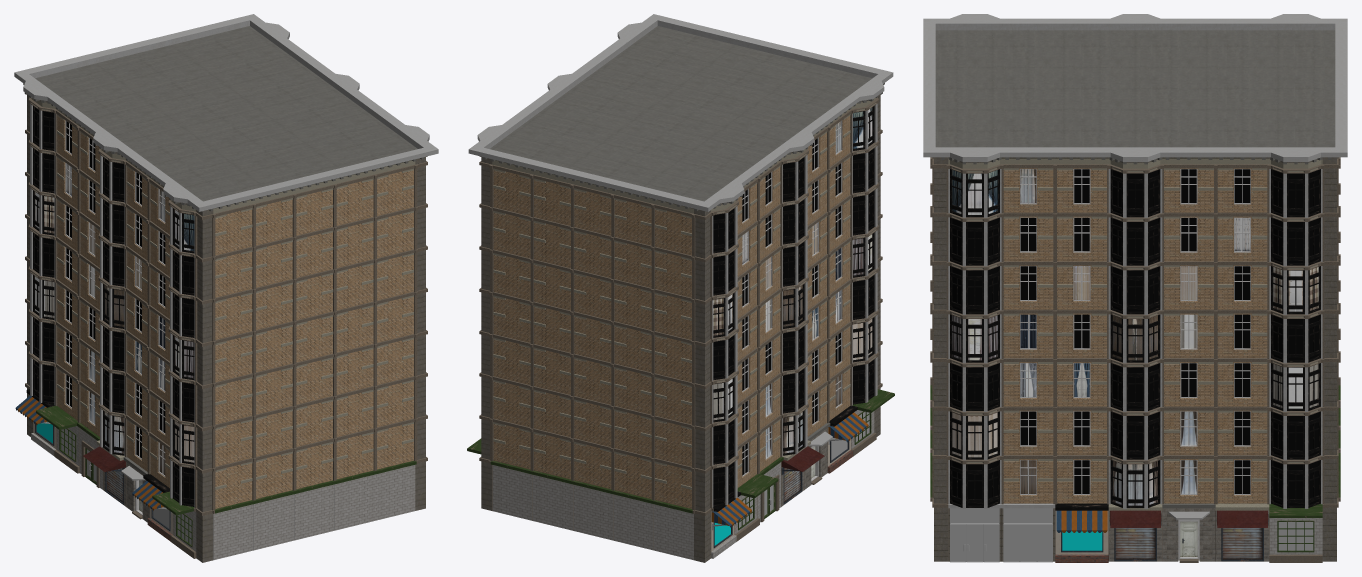
Rendered from Building04_B.fbx.
3 views of the same model, side by side, from view 1: azimuth 30°, elevation 25°; view 2: azimuth 150°, elevation 25°; view 3: azimuth 270°, elevation 25° (orthographic). The views are drawn at different scales.
Visible parts, largest first — view 1: Building04_B; view 2: Building04_B; view 3: Building04_B.
Part boxes in pixels (x1,y1,x2,y2): Building04_B: (14, 14, 438, 562); Building04_B: (467, 14, 894, 562); Building04_B: (923, 14, 1347, 562).
Size of the model in its own units: 1973 by 2560 by 2380.
